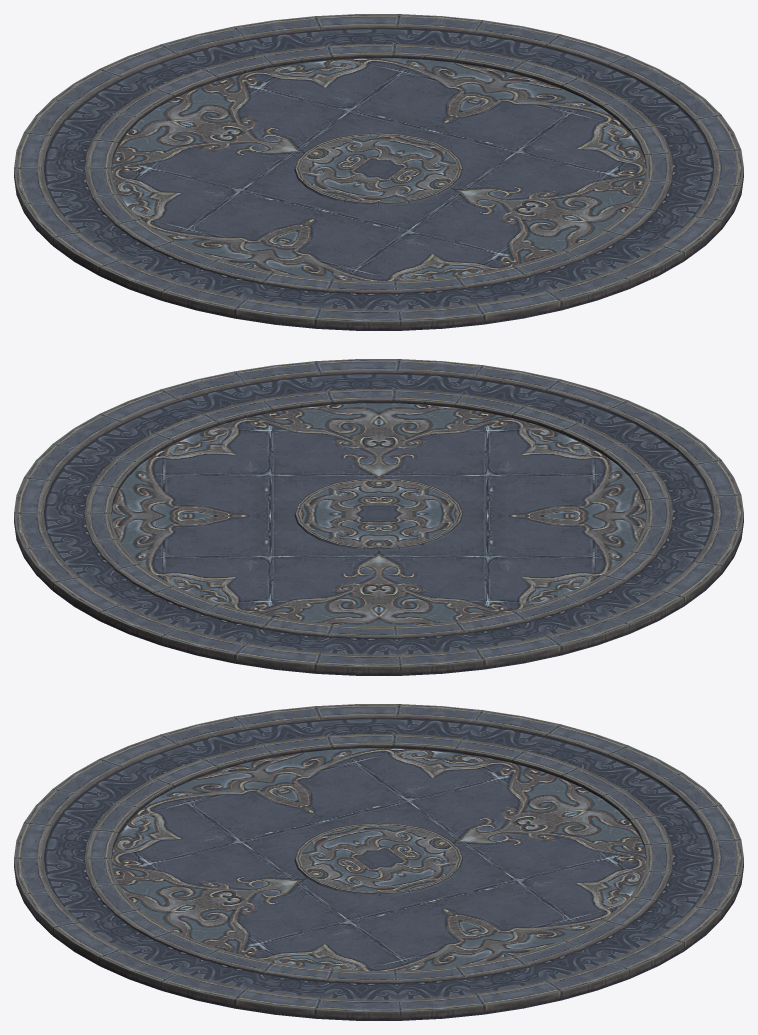
The model's file is biwu_01.FBX.
The picture shows the model from 3 angles, top to bottom: view 1: azimuth 30°, elevation 25°; view 2: azimuth 150°, elevation 25°; view 3: azimuth 270°, elevation 25°; orthographic projection.
Visible parts, largest first — view 1: Object001; view 2: Object001; view 3: Object001.
Part boxes in pixels (<box>): Object001: <box>14,14,743,330</box>; Object001: <box>14,359,743,675</box>; Object001: <box>14,704,743,1020</box>.
Size of the model in its own units: 754 by 10.16 by 755.
